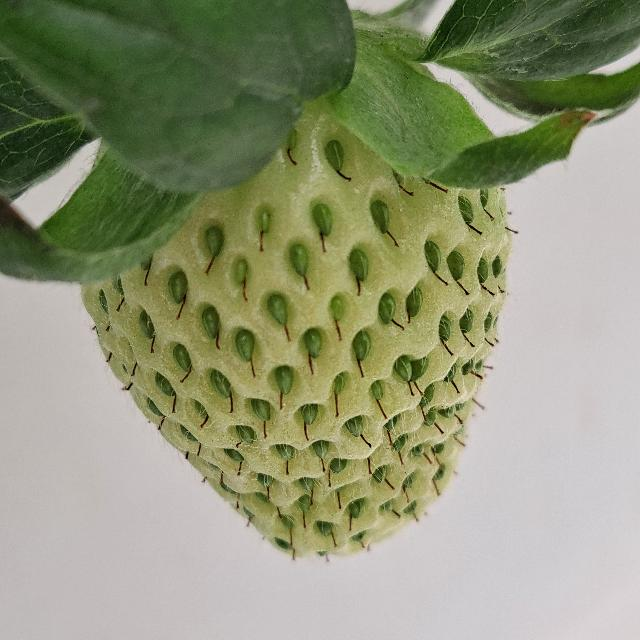Health_25: (80, 102, 512, 560)
